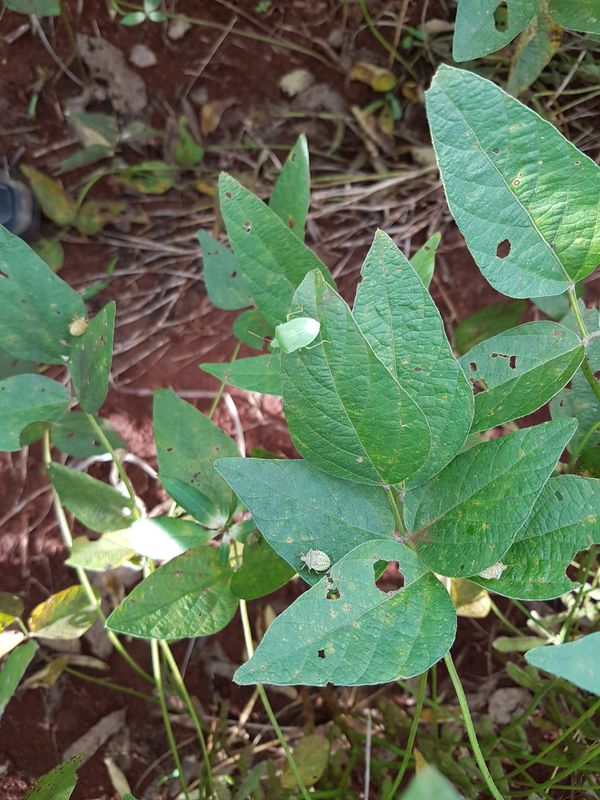Euschistus_heros_ninfa: (284, 535, 347, 586), (56, 303, 100, 348)
Nezara_viridula_adulto: (245, 300, 340, 373)
